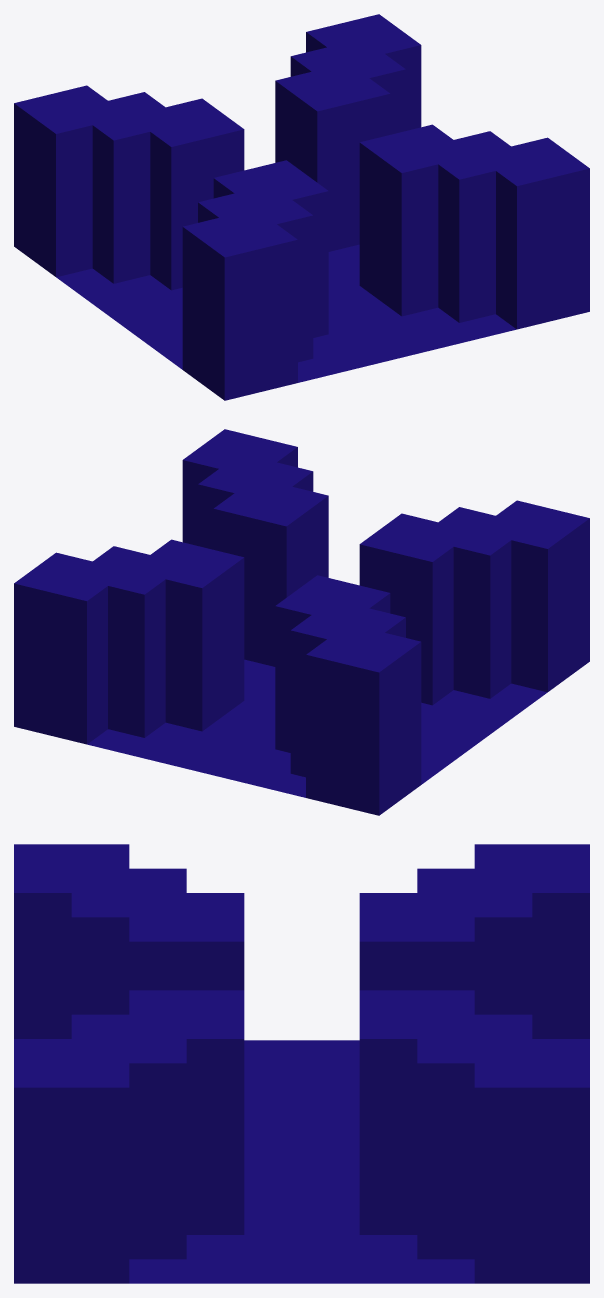
The model's file is X_block.fbx.
3 renders of one model, top to bottom at view 1: azimuth 30°, elevation 25°; view 2: azimuth 150°, elevation 25°; view 3: azimuth 270°, elevation 25°, orthographic. The views are drawn at different scales.
Visible parts, largest first — view 1: Plane; view 2: Plane; view 3: Plane.
Part boxes in pixels (bbox=[...]): Plane: bbox=[14, 14, 589, 400]; Plane: bbox=[14, 429, 589, 815]; Plane: bbox=[14, 844, 589, 1283].
Bounding box in the file's own units: 1600 × 600 × 1600.
